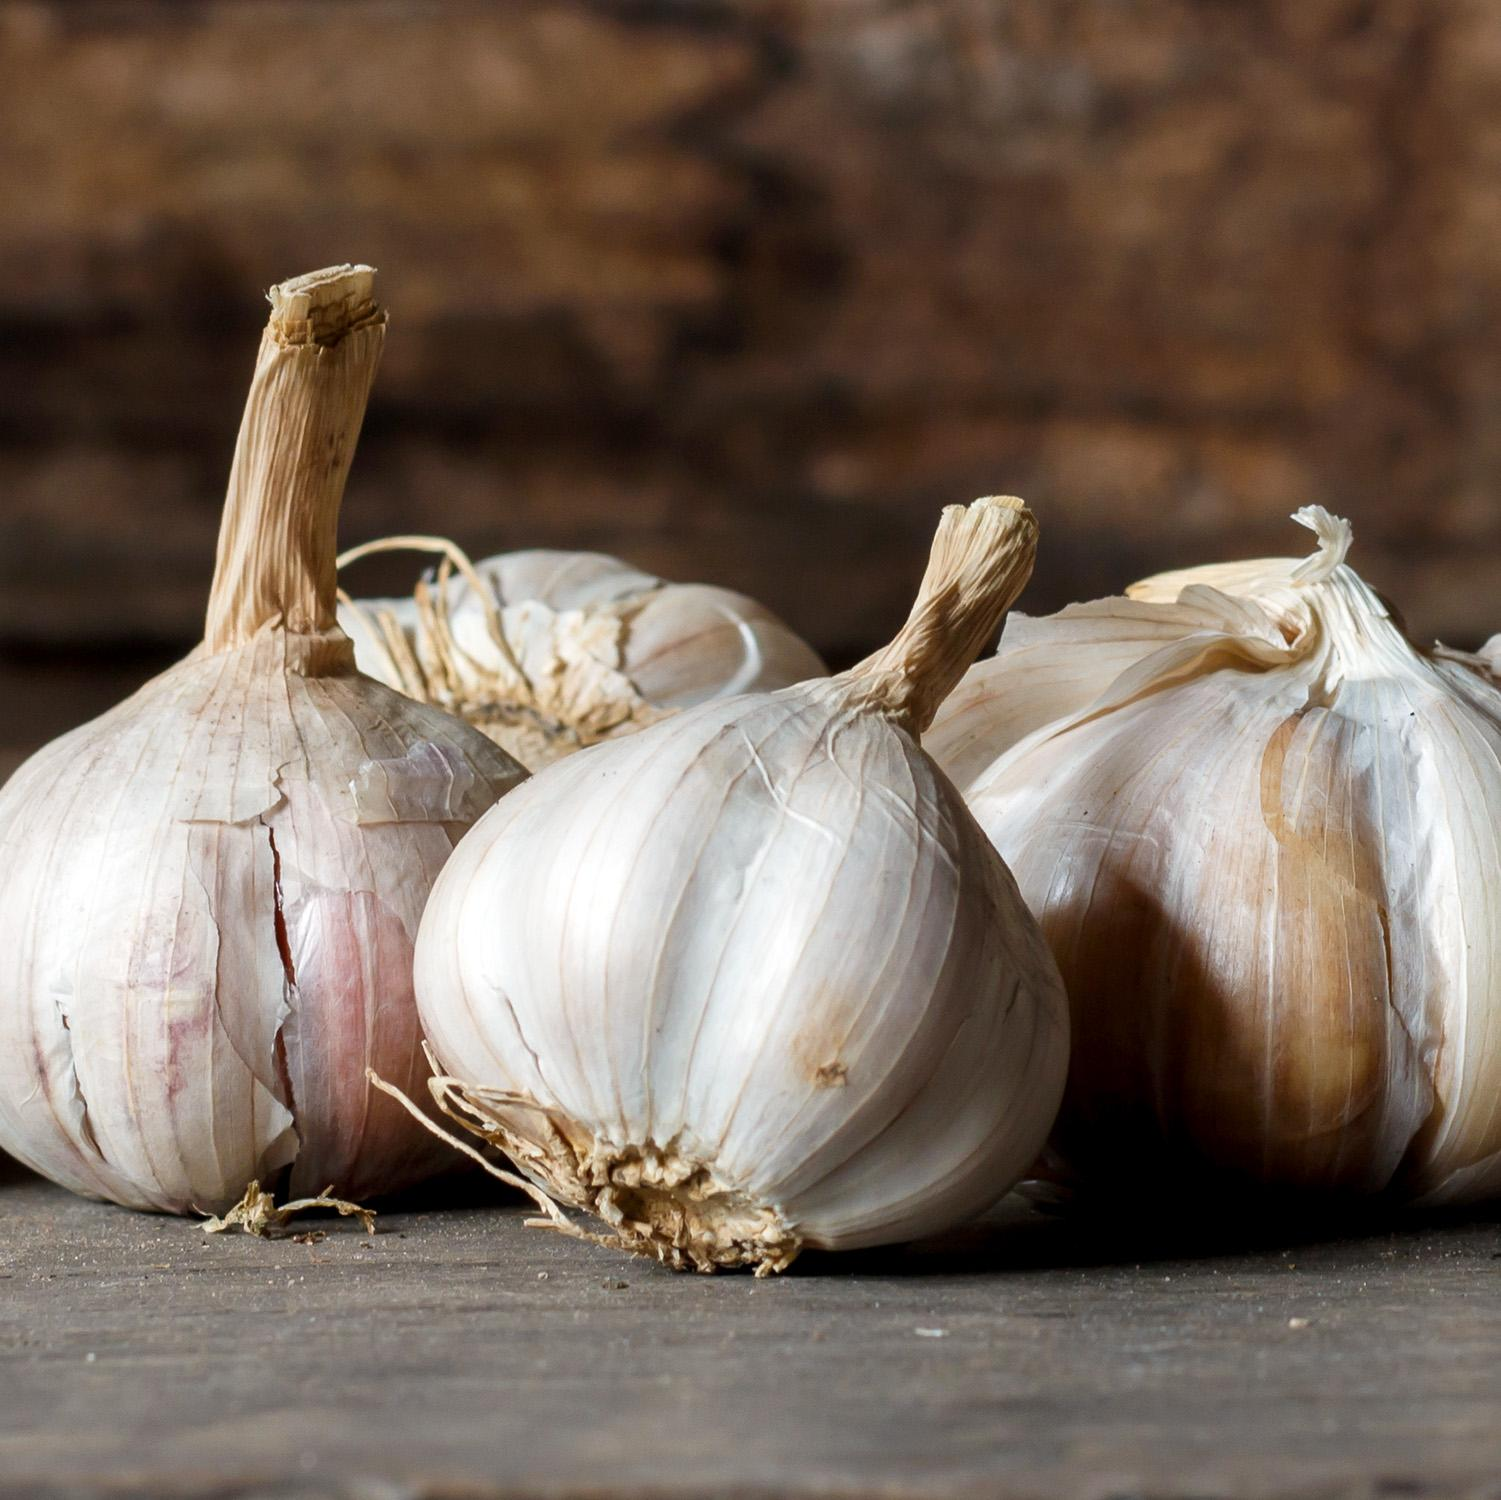garlic: (369, 490, 1074, 1277), (0, 260, 534, 1220), (919, 501, 1500, 1217)
